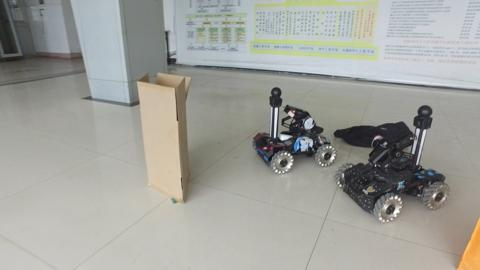box: (135, 66, 193, 206)
chariot: (335, 100, 452, 219), (255, 84, 336, 172)
